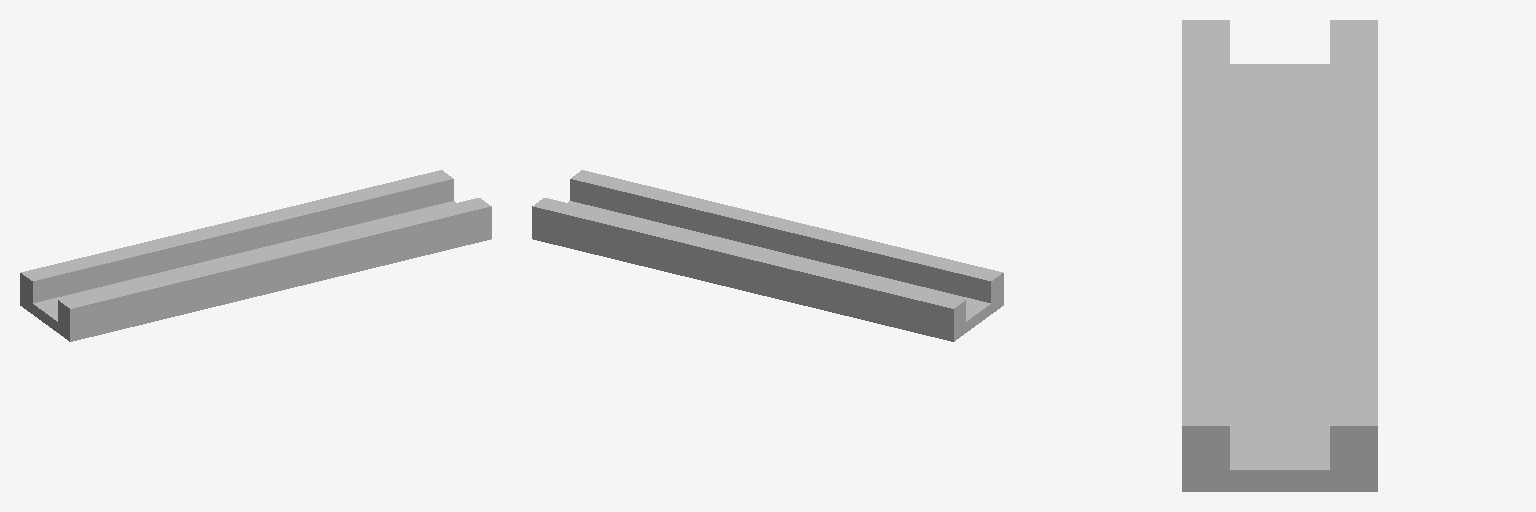
The robot description file, URDF, robot "table":
<robot name="table">
  <link name="base_link">
    <visual>
      <geometry>
        <box size="4 0.82 0.1"/>
      </geometry>
      <origin rpy="0 0 0" xyz="0 0 0"/>
      <material name="whitish">
        <color rgba="0.8 0.8 0.8 1"/>
      </material>
    </visual>
    <collision>
      <geometry>
        <box size="4 2 0.1"/>
      </geometry>
      <origin rpy="0 0 0" xyz="0 0 0"/>
    </collision>
    <inertial>
      <mass value="10"/>
      <inertia ixx="0.4" ixy="0.0" ixz="0.0" iyy="0.4" iyz="0.0" izz="0.2"/>
    </inertial>
    <contact>
      <lateral_friction value="1.0"/>
      <rolling_friction value="0.0"/>
      <contact_cfm value="0.0"/>
      <contact_erp value="1.0"/>
    </contact>
  </link>

  <link name="ridge1">
    <visual>
      <geometry>
        <box size="4 0.2 0.2"/>
      </geometry>
      <origin rpy="0 0 0" xyz="0 0 0.1"/>
      <material name="whitish">
        <color rgba="0.8 0.8 0.8 1"/>
      </material>
    </visual>
    <collision>
      <geometry>
        <box size="4 0.2 0.2"/>
      </geometry>
      <origin rpy="0 0 0" xyz="0 0 0.1"/>
    </collision>
    <inertial>
      <mass value="10"/>
      <inertia ixx="0.4" ixy="0.0" ixz="0.0" iyy="0.4" iyz="0.0" izz="0.2"/>
    </inertial>
    <contact>
      <lateral_friction value="1.0"/>
      <rolling_friction value="0.0"/>
      <contact_cfm value="0.0"/>
      <contact_erp value="1.0"/>
    </contact>
  </link>

  <link name="ridge2">
    <visual>
      <geometry>
        <box size="4 0.2 0.2"/>
      </geometry>
      <origin rpy="0 0 0" xyz="0 0 0.1"/>
      <material name="whitish">
        <color rgba="0.8 0.8 0.8 1"/>
      </material>
    </visual>
    <collision>
      <geometry>
        <box size="4 0.2 0.2"/>
      </geometry>
      <origin rpy="0 0 0" xyz="0 0 0.1"/>
    </collision>
    <inertial>
      <mass value="10"/>
      <inertia ixx="0.4" ixy="0.0" ixz="0.0" iyy="0.4" iyz="0.0" izz="0.2"/>
    </inertial>
    <contact>
      <lateral_friction value="1.0"/>
      <rolling_friction value="0.0"/>
      <contact_cfm value="0.0"/>
      <contact_erp value="1.0"/>
    </contact>
  </link>

  <joint name="base_to_1" type="fixed">
    <parent link="base_link"/>
    <child link="ridge1"/>
    <origin xyz="0 0.31 0.05"/>
  </joint>

  <joint name="base_to_2" type="fixed">
    <parent link="base_link"/>
    <child link="ridge2"/>
    <origin xyz="0 -0.31 0.05"/>
  </joint>

</robot>

--- What the picture shows (computed from the rendered views, not written in the file) ---
Views: 3 orthographic renders of the robot side by side, from view 1: azimuth 30°, elevation 25°; view 2: azimuth 150°, elevation 25°; view 3: azimuth 270°, elevation 25°.
Model table with 3 links and 2 joints (2 fixed), rooted at base_link, posed every joint at zero.
Visible links, largest first — view 1: ridge1, ridge2, base_link; view 2: ridge1, ridge2, base_link; view 3: base_link, ridge1, ridge2.
Boxes of the visible links, bbox=[...] form: ridge1: bbox=[20, 170, 453, 302]; ridge2: bbox=[58, 198, 491, 330]; base_link: bbox=[20, 201, 491, 341]; ridge1: bbox=[532, 198, 965, 330]; ridge2: bbox=[570, 170, 1003, 302]; base_link: bbox=[532, 201, 1003, 341]; base_link: bbox=[1182, 64, 1377, 491]; ridge1: bbox=[1330, 20, 1377, 469]; ridge2: bbox=[1182, 20, 1229, 469].
Bounding box of the posed robot: 4 × 0.82 × 0.3 m (x, y, z).
Geometry: primitives only (box / cylinder / sphere), no mesh files.